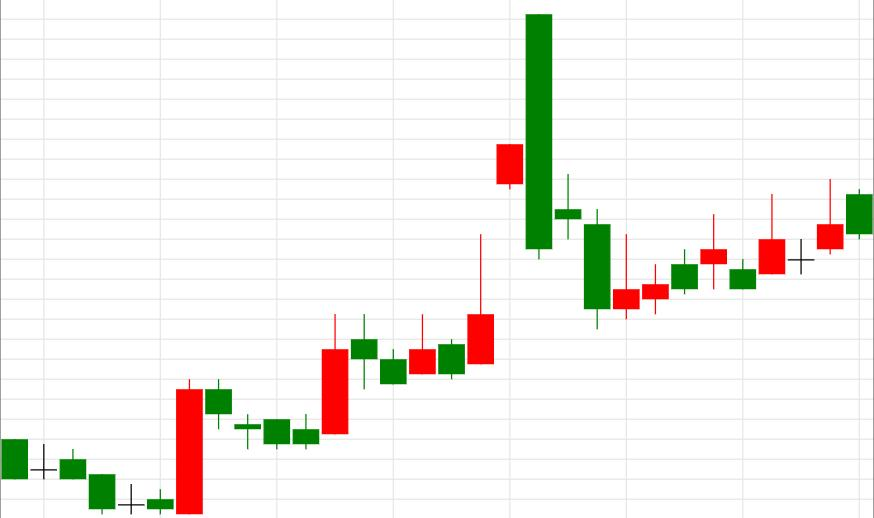bearish_engulfing_fall: (264, 15, 552, 448)
